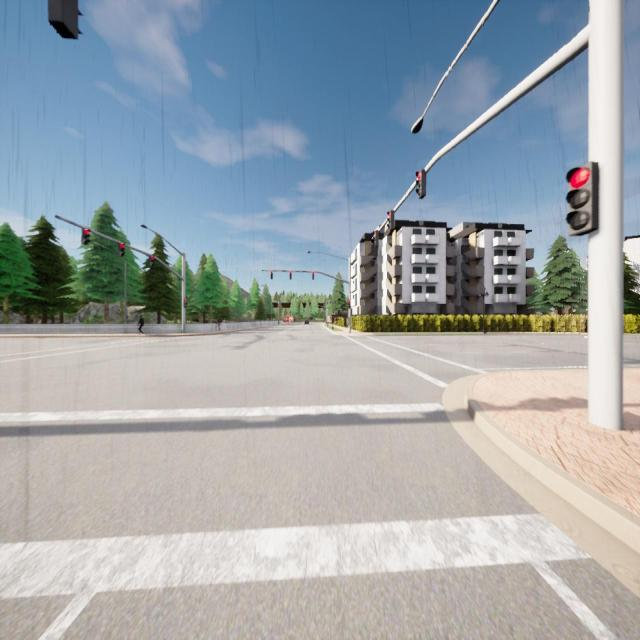Pedestrian: (138, 314, 144, 334), (216, 316, 222, 331), (330, 311, 335, 329)
Vehicle: (282, 314, 296, 322), (304, 320, 309, 324)
traffic_light: (566, 162, 598, 236), (48, 0, 83, 39), (416, 169, 426, 199), (387, 210, 394, 230), (82, 228, 90, 244), (118, 243, 125, 256), (374, 230, 378, 247), (150, 255, 154, 266), (184, 298, 187, 308), (348, 300, 351, 309), (290, 270, 292, 280), (270, 271, 272, 279), (312, 272, 314, 280)
